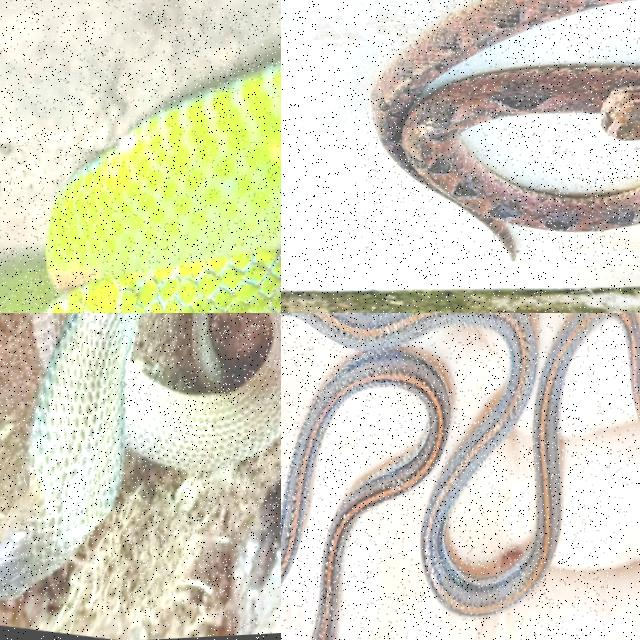Calliophis intestinalis: (281, 313, 639, 639)
Calloselasma rhodostoma: (372, 0, 639, 257)
Naja siamensis: (0, 313, 280, 597)
Trimeresurus macrops: (45, 64, 280, 312)
